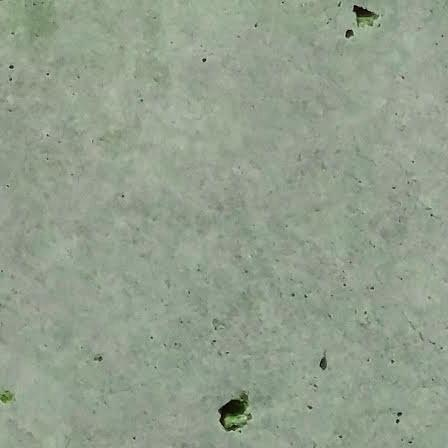spalling: (212, 391, 262, 437), (343, 2, 383, 38)
